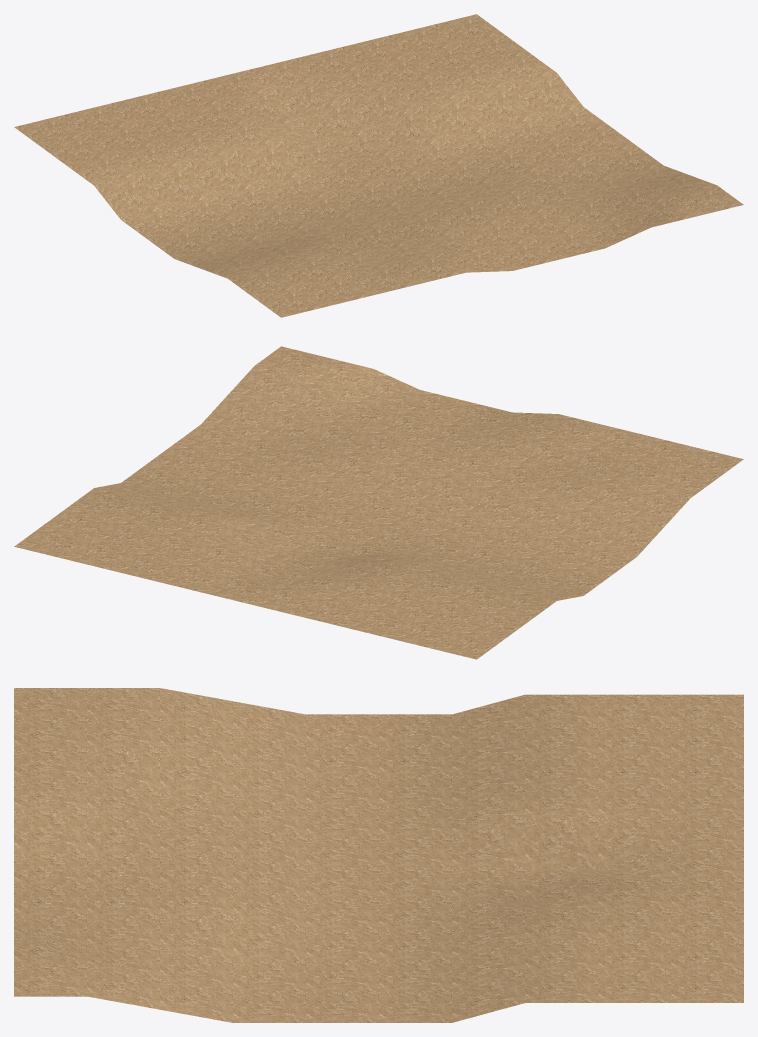
Rendered from Plane_Experiment.fbx.
The picture shows the model from 3 angles, top to bottom: view 1: azimuth 30°, elevation 25°; view 2: azimuth 150°, elevation 25°; view 3: azimuth 270°, elevation 25°; orthographic projection. The views are drawn at different scales.
Visible parts, largest first — view 1: Plane; view 2: Plane; view 3: Plane.
Part boxes in pixels (left/top/right/bottom): Plane: left=14, top=14, right=743, bottom=317; Plane: left=14, top=346, right=743, bottom=659; Plane: left=14, top=688, right=743, bottom=1022.
Bounding box in the file's own units: 10000 × 400 × 10000.
1 material, 1 textured.
